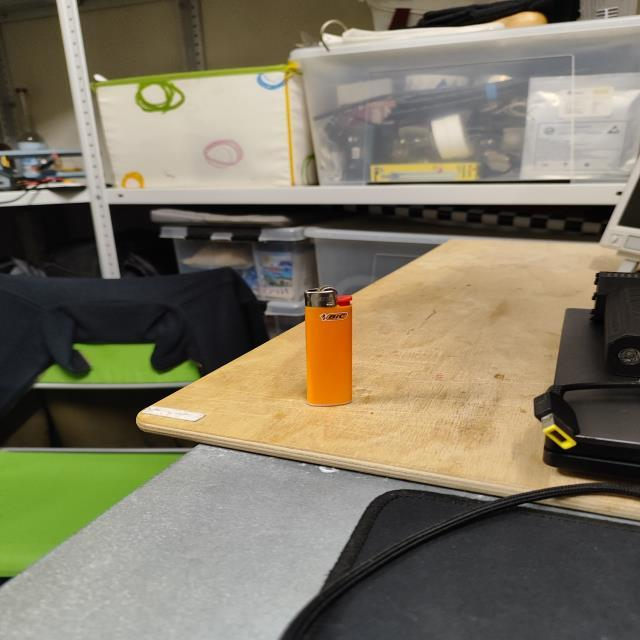lighter: (305, 287, 351, 406)
